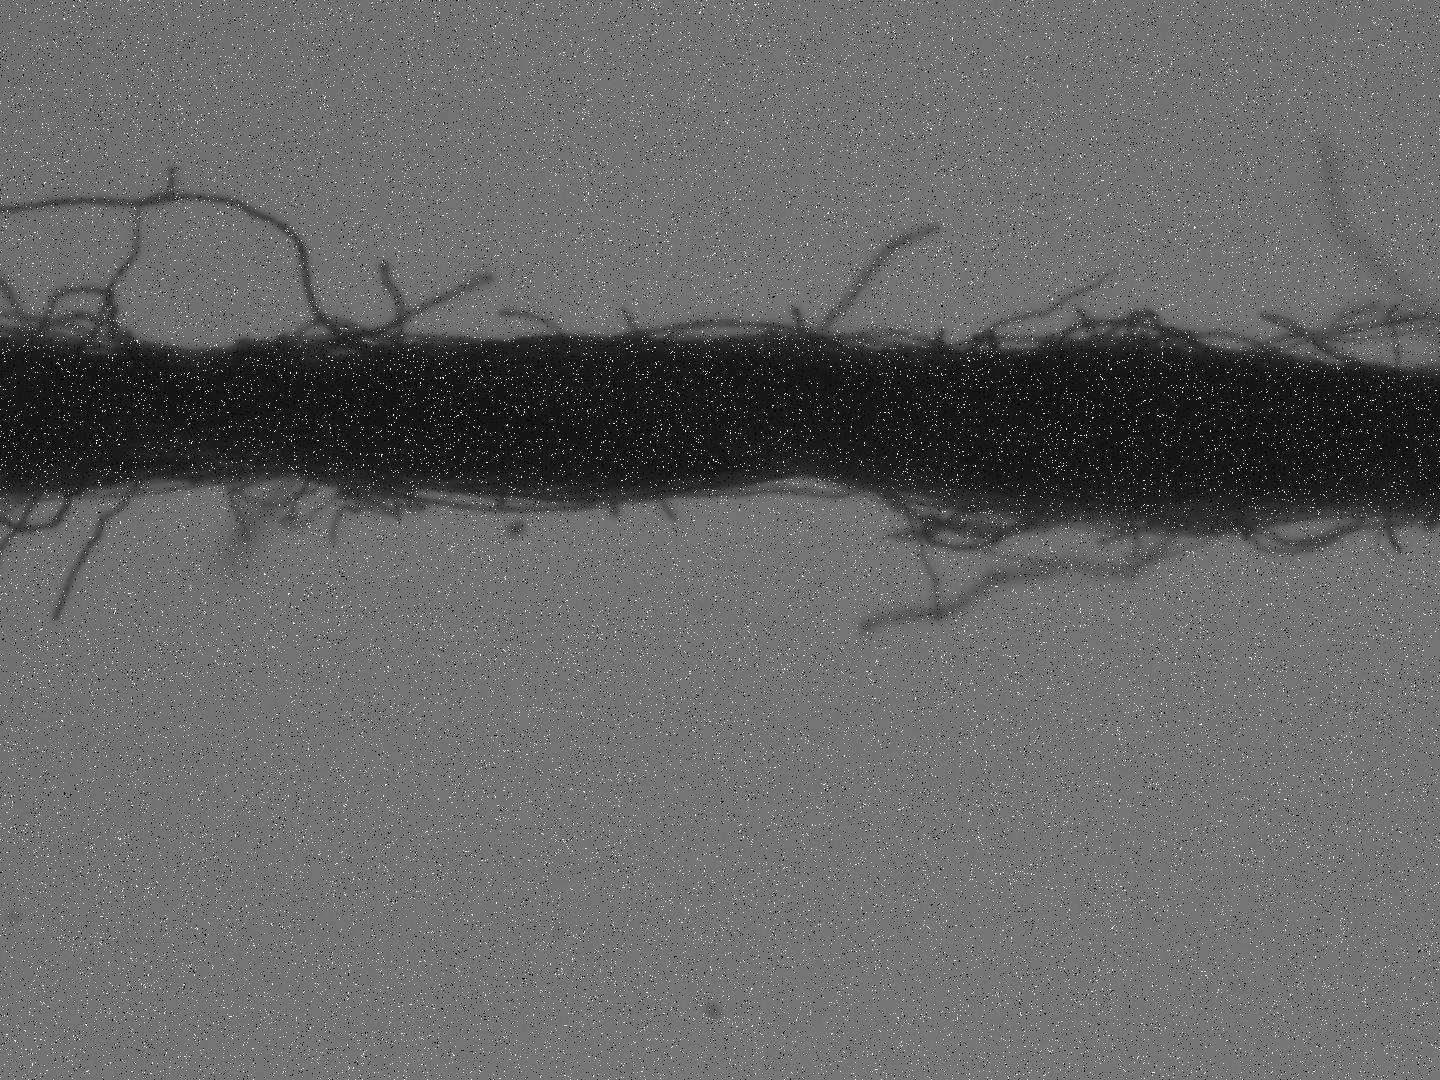loop_fiber: (882, 487, 1062, 535), (372, 484, 629, 518), (32, 285, 122, 352), (244, 332, 495, 354), (621, 318, 828, 344), (1246, 514, 1365, 557), (1054, 317, 1205, 347), (1264, 517, 1418, 546), (705, 475, 861, 500), (289, 318, 391, 355), (823, 327, 955, 351), (37, 315, 133, 347), (88, 474, 197, 499), (1166, 329, 1278, 353), (237, 475, 313, 507), (1126, 305, 1168, 347), (966, 327, 999, 351)
protruding_fiber: (88, 166, 177, 343), (820, 220, 939, 341), (57, 487, 136, 616), (367, 267, 490, 339), (502, 307, 564, 336), (383, 261, 404, 345)
